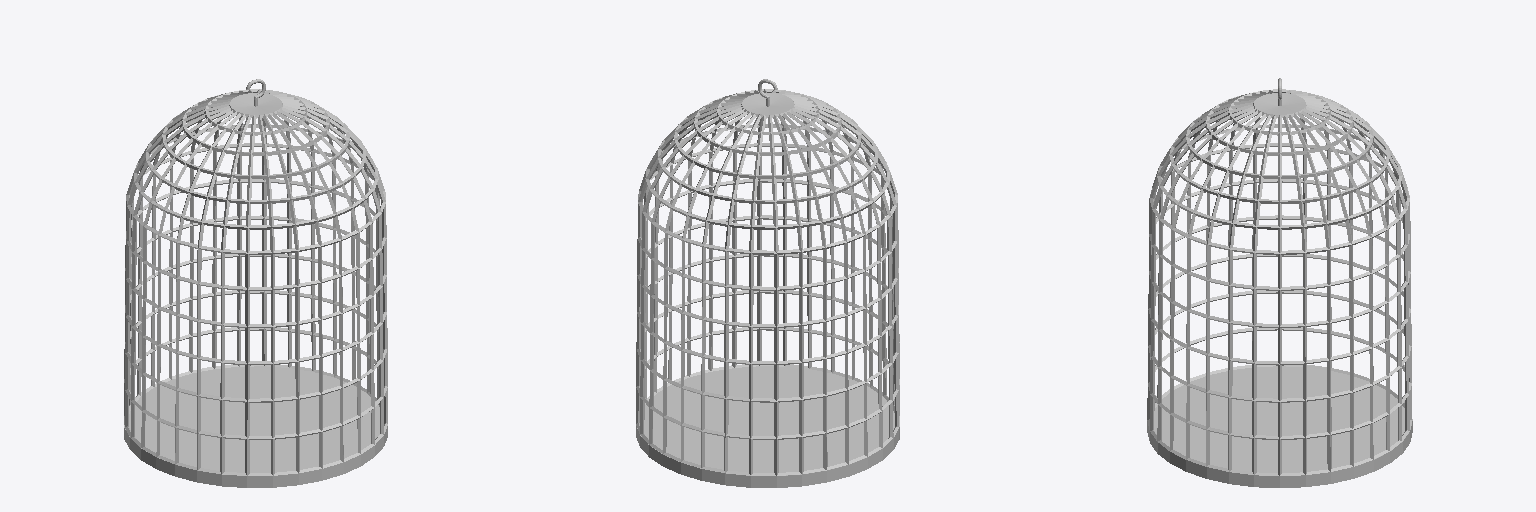
The model's file is Cage.obj.
3 views of the same model, side by side, from view 1: azimuth 30°, elevation 25°; view 2: azimuth 150°, elevation 25°; view 3: azimuth 270°, elevation 25° (orthographic).
Visible parts, largest first — view 1: Bars, Base; view 2: Bars, Base; view 3: Bars, Base.
Part boxes in pixels (x1,y1,x2,y2): Bars: (124,89,387,475); Base: (124,366,387,487); Bars: (636,89,899,475); Base: (636,366,899,487); Bars: (1147,89,1411,475); Base: (1147,366,1412,487).
Bounding box in the file's own units: 2.03 × 2.98 × 2.03.